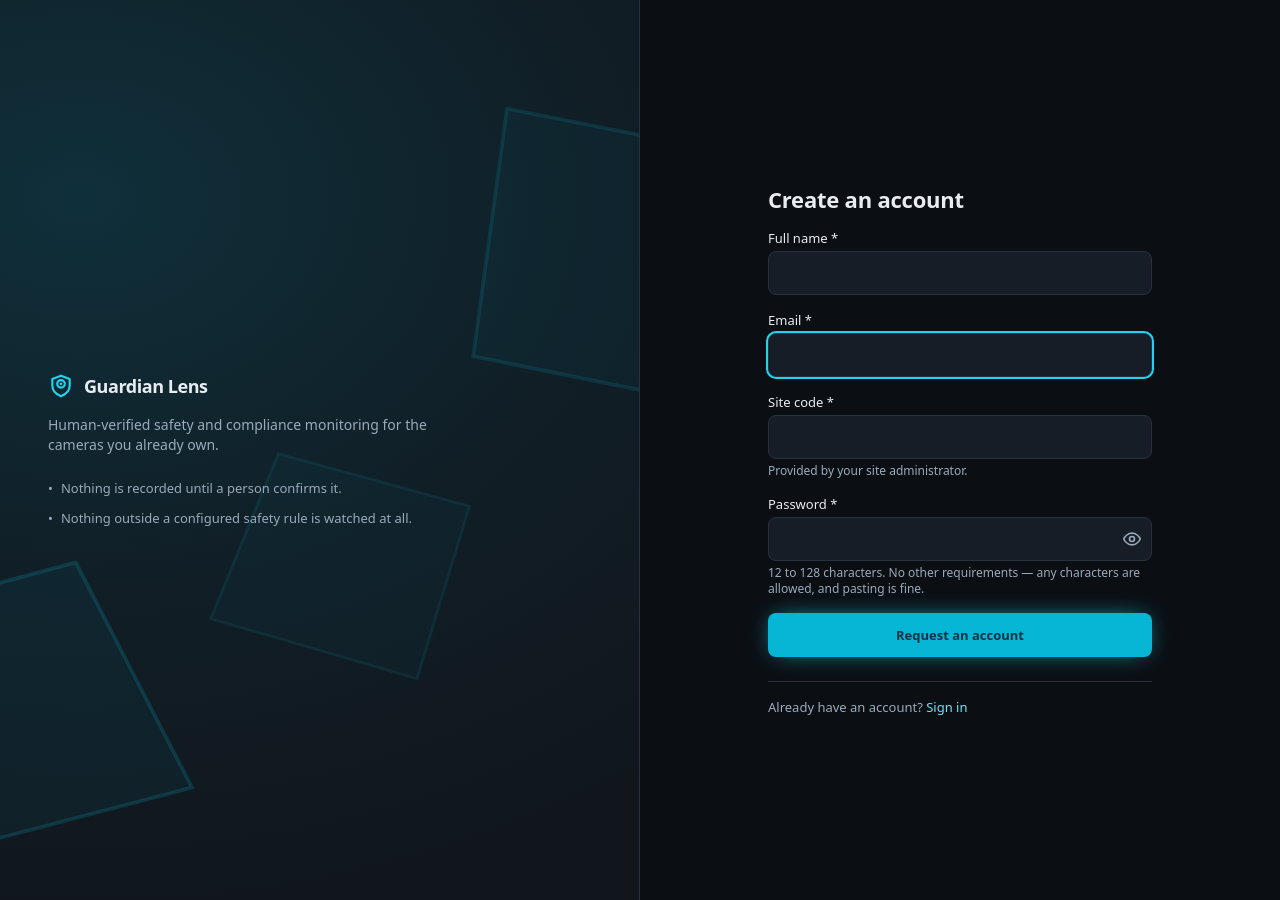
it: SignupPage › renders the one generic acceptance on 202 regardless of payload (CS-AU-16) 0
The width and height of the screenshot is (1280, 900).
Step 1. Type "A Reviewer" into the field labelled "Full name *" → [960, 272], box [768,250,1152,294]
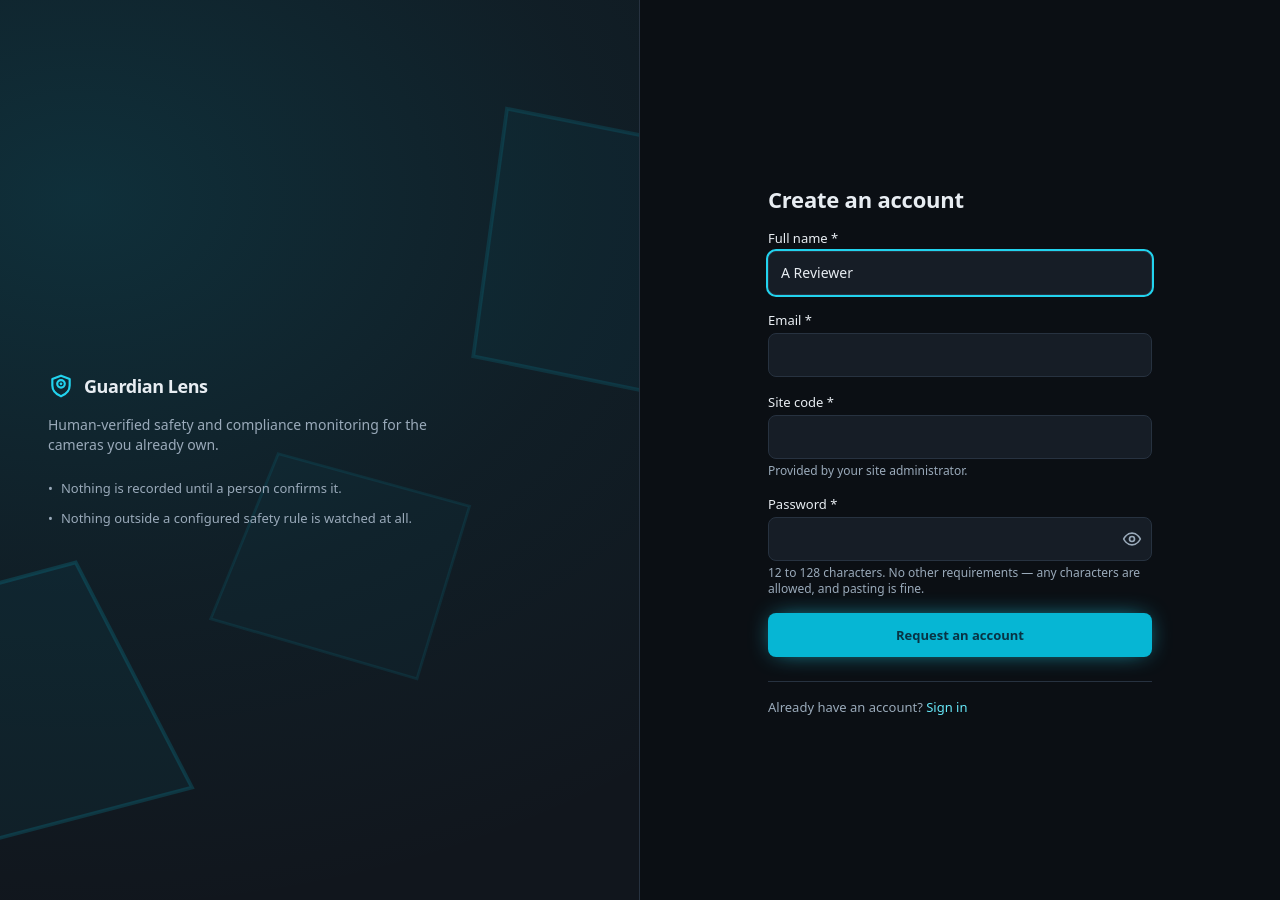
Step 2. Type "a@b.test" into the field labelled "Email *" → [960, 354], box [768,332,1152,376]
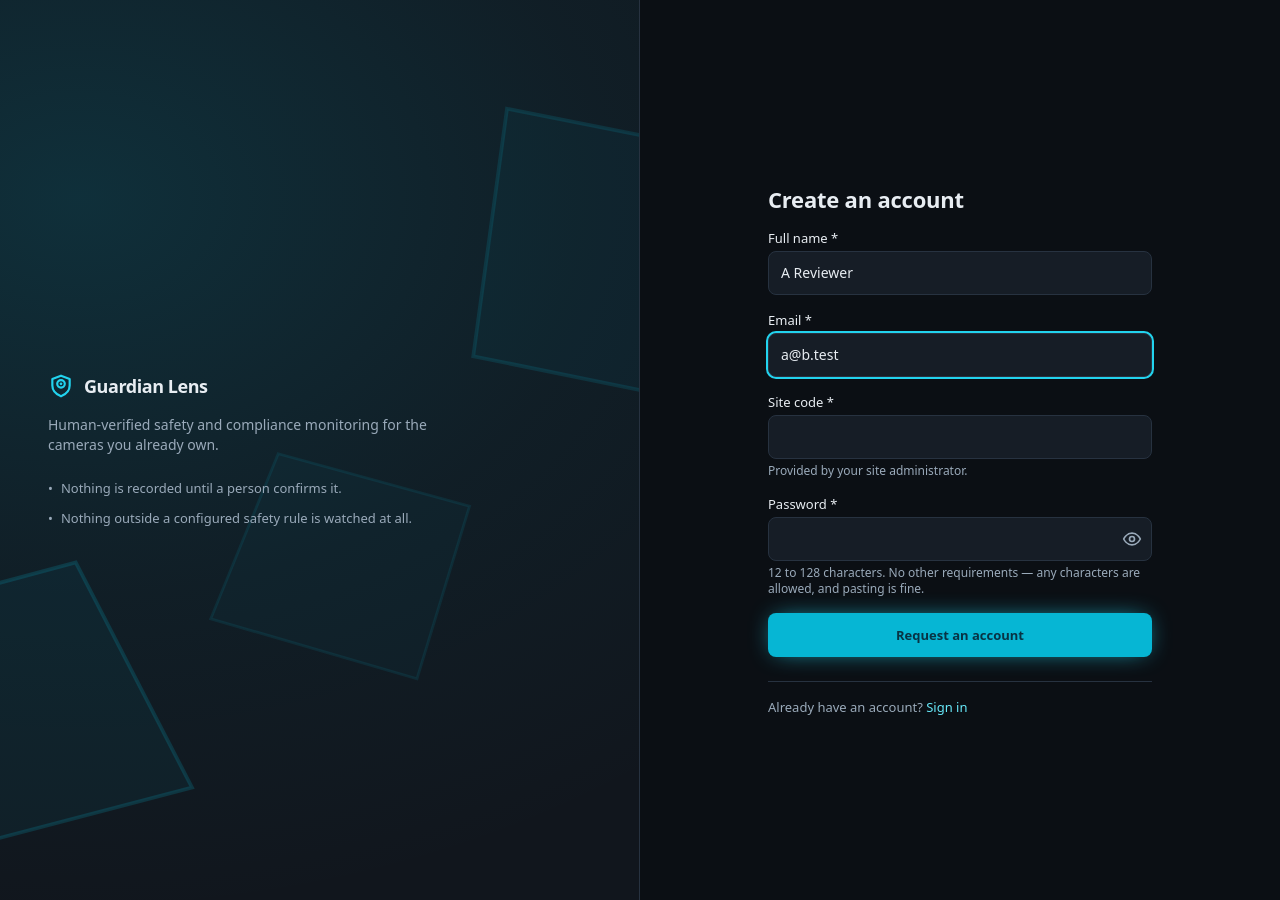
Step 3. Type "SITE-42" into the field labelled "Site code *" → [960, 436], box [768,414,1152,458]
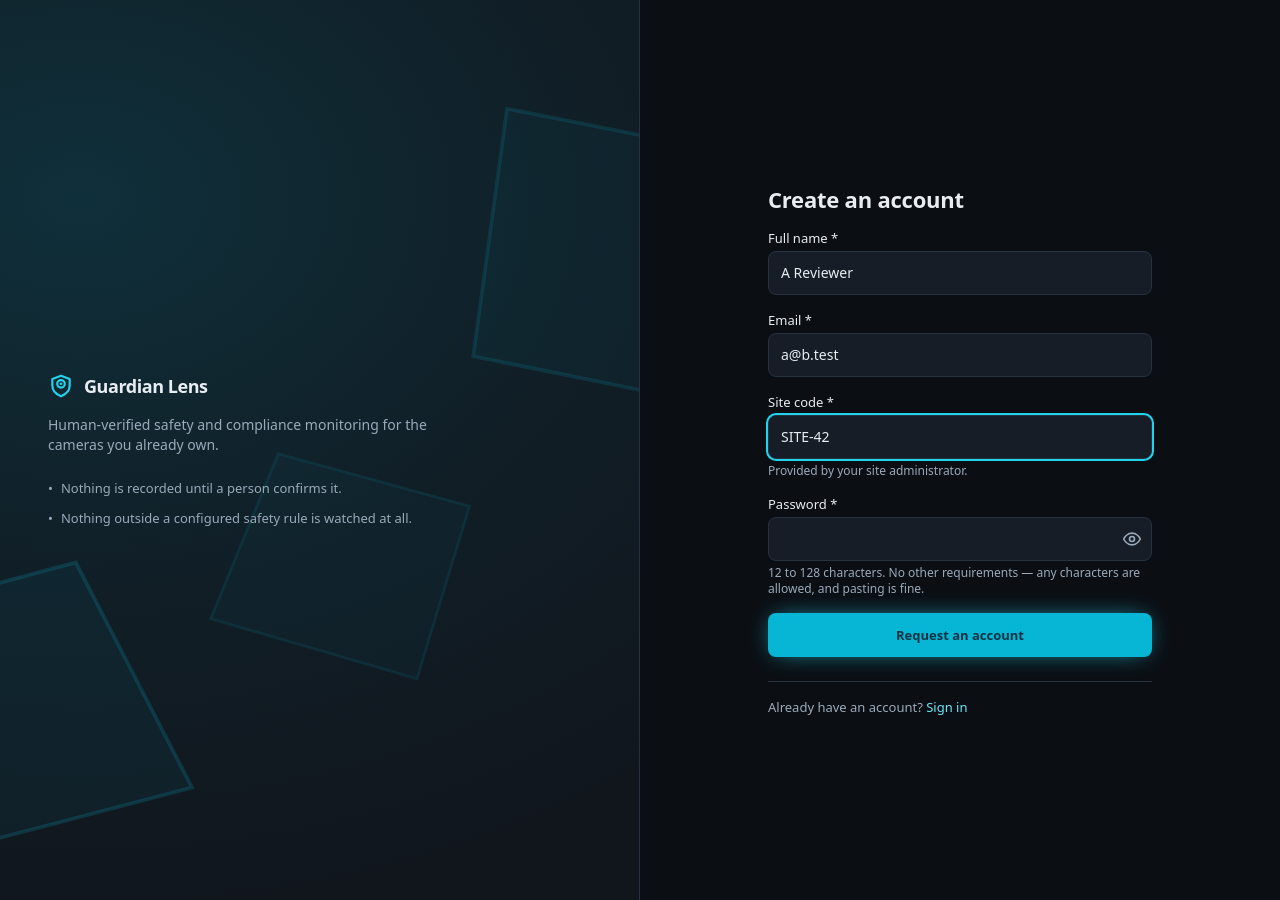
Step 4. Type "a perfectly fine passphrase" into the password field labelled "Password *" → [960, 538], box [768,516,1152,560]
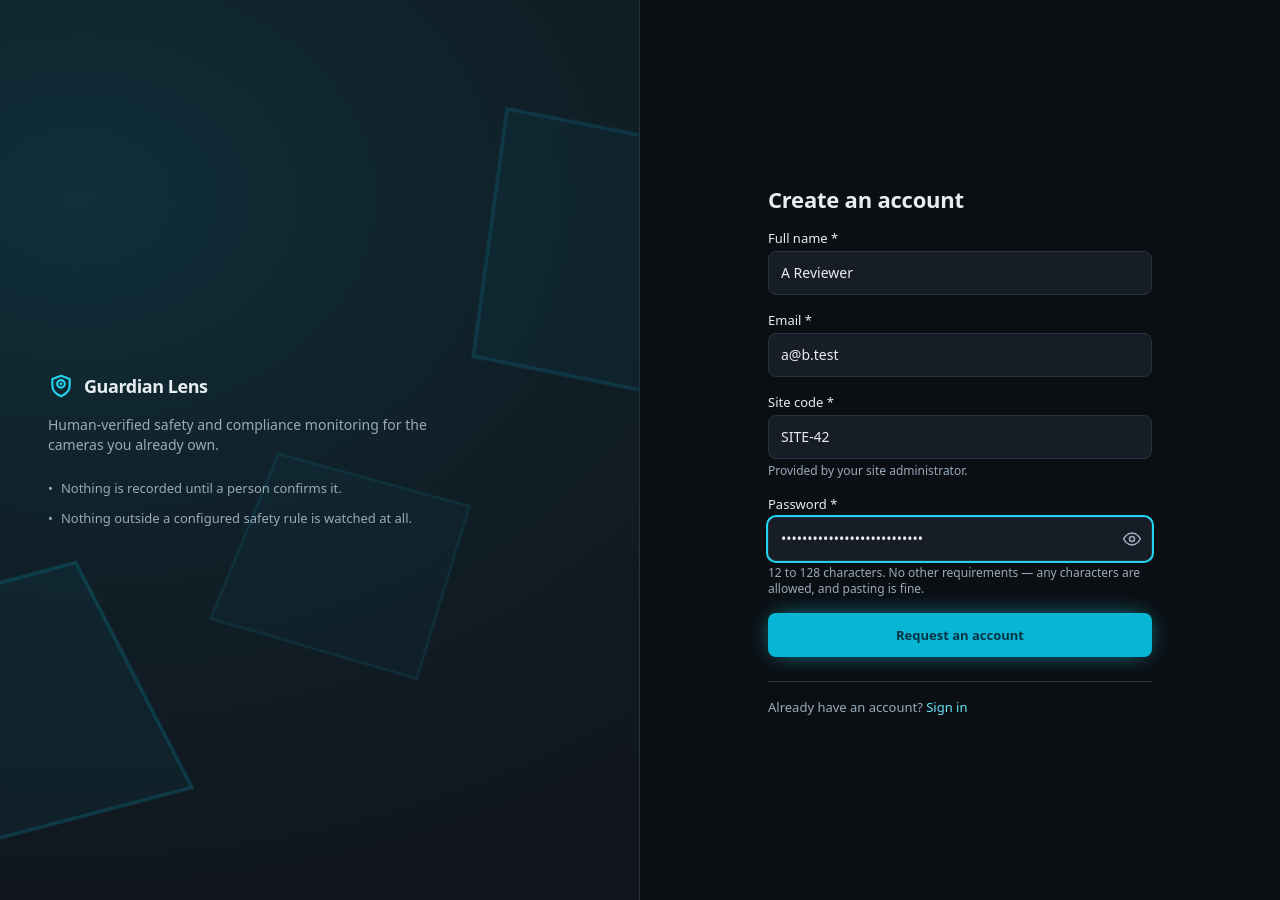
Step 5. Click the button "Request an account" → [960, 634], box [768,612,1152,656]
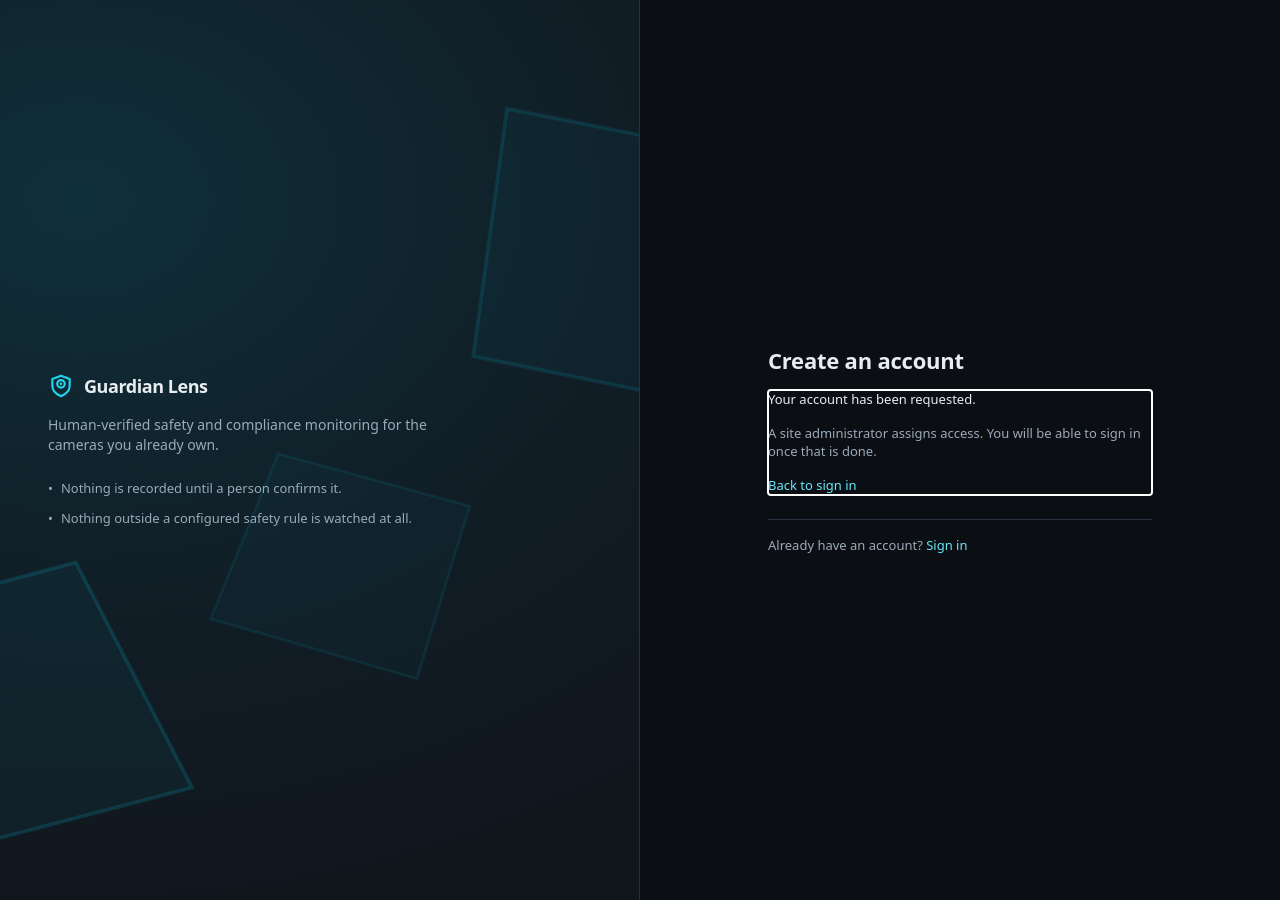
Now the message shows "Your account has been requested.", box [768,390,976,408]
Now the text "A site administrator assigns access" is shown, box [768,424,1141,460]
